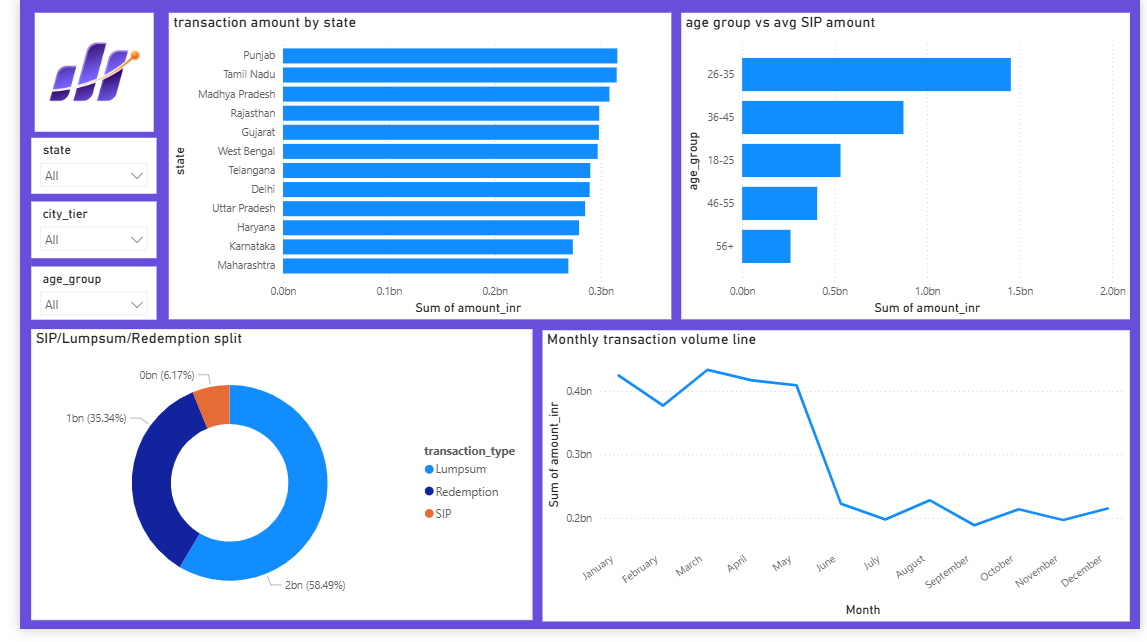

This screenshot's page, from the dashboard's own definition file:
{"tool":"powerbi","page":{"name":" Investor Analytics","canvas":[1280,720],"ordinal":3},"visuals":[{"type":"clusteredBarChart","title":"transaction amount by state","fields":{"Y":["Sum(08_investor_transactions.amount_inr)"],"Category":["08_investor_transactions.state"]},"box":[170,15.7,574.3,350],"z":0},{"type":"donutChart","title":"SIP/Lumpsum/Redemption split","fields":{"Category":["08_investor_transactions.transaction_type"],"Y":["Sum(08_investor_transactions.amount_inr)"]},"box":[12.9,377.1,572.9,332.9],"z":1},{"type":"clusteredBarChart","title":"age group vs avg SIP amount","fields":{"Category":["08_investor_transactions.age_group"],"Y":["Sum(08_investor_transactions.amount_inr)"]},"box":[755.7,15.7,512.9,350],"z":2},{"type":"lineChart","title":"Monthly transaction volume line","fields":{"Category":["08_investor_transactions.transaction_date.Variation.Date Hierarchy.Month"],"Y":["Sum(08_investor_transactions.amount_inr)"]},"box":[597.1,378.6,671.4,332.9],"z":3},{"type":"slicer","fields":{"Values":["08_investor_transactions.state"]},"box":[12.8,158.1,143,64],"z":4},{"type":"slicer","fields":{"Values":["08_investor_transactions.city_tier"]},"box":[12.8,231.4,143,65.1],"z":5},{"type":"slicer","fields":{"Values":["08_investor_transactions.age_group"]},"box":[12.8,305.8,143,60.5],"z":6},{"type":"image","box":[0,15.7,170,135.7],"z":7}]}

Visuals, with their boxes in screenshot pixels (x1, y1, x2, y2), scaled from the page's 1280x720 canvas onto the 1147x642 screenshot:
"transaction amount by state" clusteredBarChart: (left=152, top=14, right=667, bottom=326)
"SIP/Lumpsum/Redemption split" donutChart: (left=12, top=336, right=525, bottom=633)
"age group vs avg SIP amount" clusteredBarChart: (left=677, top=14, right=1137, bottom=326)
"Monthly transaction volume line" lineChart: (left=535, top=338, right=1137, bottom=634)
slicer - 08_investor_transactions.state: (left=11, top=141, right=140, bottom=198)
slicer - 08_investor_transactions.city_tier: (left=11, top=206, right=140, bottom=264)
slicer - 08_investor_transactions.age_group: (left=11, top=273, right=140, bottom=327)
image: (left=0, top=14, right=152, bottom=135)
